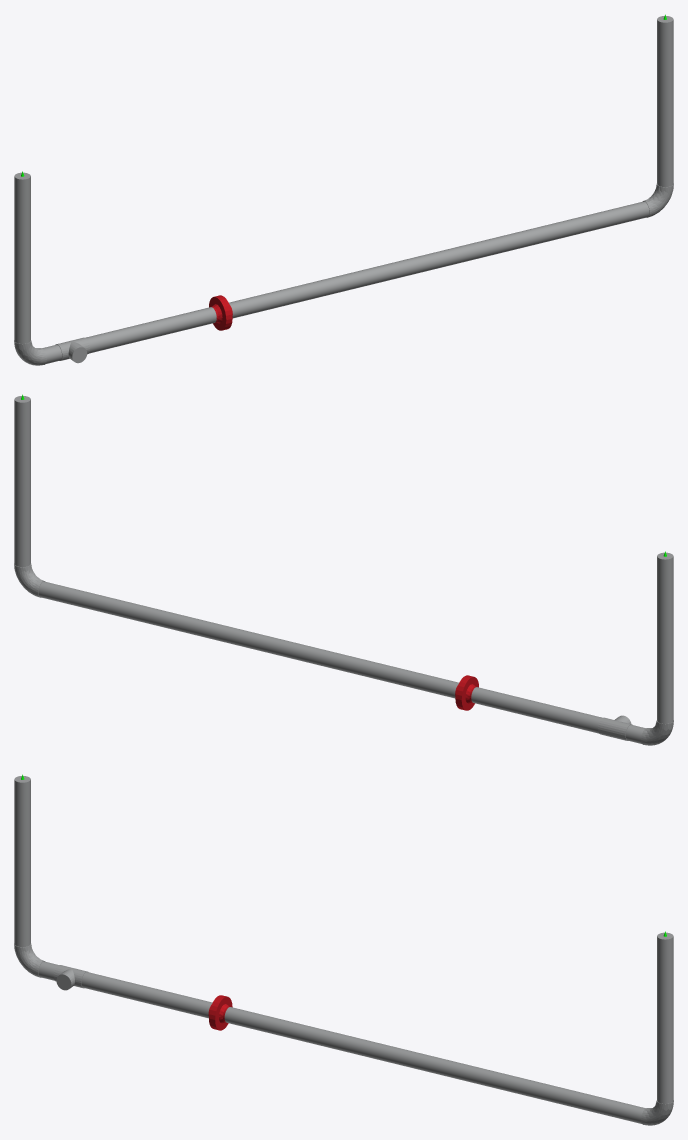
Rendered from Phase04a1.fbx.
The picture shows the model from 3 angles, top to bottom: view 1: azimuth 30°, elevation 25°; view 2: azimuth 150°, elevation 25°; view 3: azimuth 330°, elevation 25°; orthographic projection.
Visible parts, largest first — view 1: Типы трубопроводов:Труба 108х4-12х18н10т:1293171, Типы трубопроводов:Труба 108х4-12х18н10т:1294998, Типы трубопроводов:Труба 108х4-12х18н10т:1293296, Типы трубопроводов:Труба 108х4-12х18н10т:1297680, СтальСварка_Отвод_ГОСТ17375-2001:Исполнение 1_Неоцинкованные (×2), СтальСварка_Тройник_ГОСТ17376-2001.0001:Исполнение 1_Неоцинк; view 2: Типы трубопроводов:Труба 108х4-12х18н10т:1293171, Типы трубопроводов:Труба 108х4-12х18н10т:1294998, Типы трубопроводов:Труба 108х4-12х18н10т:1293296, Типы трубопроводов:Труба 108х4-12х18н10т:1297680, СтальСварка_Отвод_ГОСТ17375-2001:Исполнение 1_Неоцинкованные (×2), СтальСварка_Тройник_ГОСТ17376-2001.0001:Исполнение 1_Неоцинк; view 3: Типы трубопроводов:Труба 108х4-12х18н10т:1293171, Типы трубопроводов:Труба 108х4-12х18н10т:1293296, Типы трубопроводов:Труба 108х4-12х18н10т:1294998, Типы трубопроводов:Труба 108х4-12х18н10т:1297680, СтальСварка_Отвод_ГОСТ17375-2001:Исполнение 1_Неоцинкованные (×2), СтальСварка_Тройник_ГОСТ17376-2001.0001:Исполнение 1_Неоцинк.
Boxes of the visible parts, x1=… form: Типы трубопроводов:Труба 108х4-12х18н10т:1293171: x1=229, y1=201, x2=649, y2=318; Типы трубопроводов:Труба 108х4-12х18н10т:1294998: x1=14, y1=172, x2=30, y2=343; Типы трубопроводов:Труба 108х4-12х18н10т:1293296: x1=657, y1=16, x2=673, y2=187; Типы трубопроводов:Труба 108х4-12х18н10т:1297680: x1=85, y1=307, x2=216, y2=353; СтальСварка_Отвод_ГОСТ17375-2001:Исполнение 1_Неоцинкованные (×2): x1=14, y1=183, x2=673, y2=365; СтальСварка_Тройник_ГОСТ17376-2001.0001:Исполнение 1_Неоцинк: x1=55, y1=337, x2=89, y2=363; Типы трубопроводов:Труба 108х4-12х18н10т:1293171: x1=38, y1=581, x2=458, y2=698; Типы трубопроводов:Труба 108х4-12х18н10т:1294998: x1=657, y1=552, x2=673, y2=723; Типы трубопроводов:Труба 108х4-12х18н10т:1293296: x1=14, y1=396, x2=30, y2=567; Типы трубопроводов:Труба 108х4-12х18н10т:1297680: x1=471, y1=687, x2=602, y2=733; СтальСварка_Отвод_ГОСТ17375-2001:Исполнение 1_Неоцинкованные (×2): x1=14, y1=563, x2=673, y2=745; СтальСварка_Тройник_ГОСТ17376-2001.0001:Исполнение 1_Неоцинк: x1=598, y1=715, x2=632, y2=740; Типы трубопроводов:Труба 108х4-12х18н10т:1293171: x1=224, y1=1007, x2=645, y2=1123; Типы трубопроводов:Труба 108х4-12х18н10т:1293296: x1=657, y1=932, x2=673, y2=1103; Типы трубопроводов:Труба 108х4-12х18н10т:1294998: x1=14, y1=776, x2=30, y2=947; Типы трубопроводов:Труба 108х4-12х18н10т:1297680: x1=81, y1=972, x2=212, y2=1018; СтальСварка_Отвод_ГОСТ17375-2001:Исполнение 1_Неоцинкованные (×2): x1=14, y1=943, x2=673, y2=1125; СтальСварка_Тройник_ГОСТ17376-2001.0001:Исполнение 1_Неоцинк: x1=53, y1=965, x2=87, y2=990.
Size of the model in its own units: 5014 by 230 by 1502.
